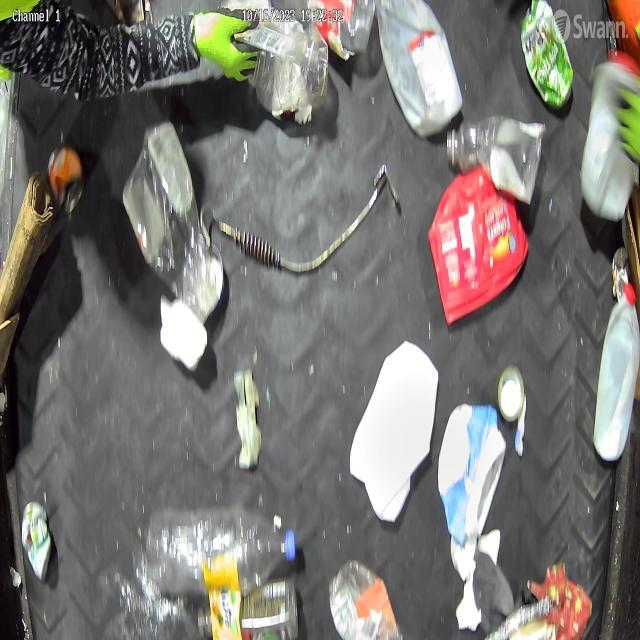can: (519, 0, 575, 112), (21, 498, 54, 582), (611, 244, 629, 301)
milk_jug: (349, 338, 441, 524), (374, 0, 464, 139), (580, 61, 640, 224), (592, 284, 640, 464)
plastic_bottle: (146, 502, 298, 596), (445, 115, 547, 208)
